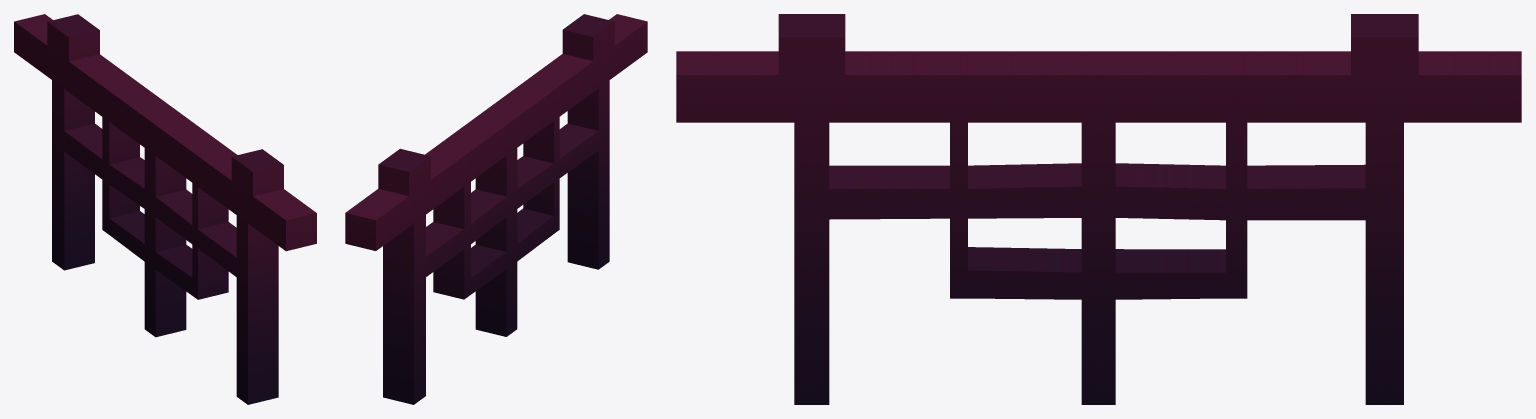
File: CercaB.fbx
The picture shows the model from 3 angles, left to right: view 1: azimuth 30°, elevation 25°; view 2: azimuth 150°, elevation 25°; view 3: azimuth 270°, elevation 25°; orthographic projection. The views are drawn at different scales.
Visible parts, largest first — view 1: meio; view 2: meio; view 3: meio.
Boxes of the visible parts, <box> form: meio: <box>14,14,316,404</box>; meio: <box>345,14,647,404</box>; meio: <box>676,14,1521,404</box>.
Bounding box in the file's own units: 0.4302 × 3.16 × 6.58.
